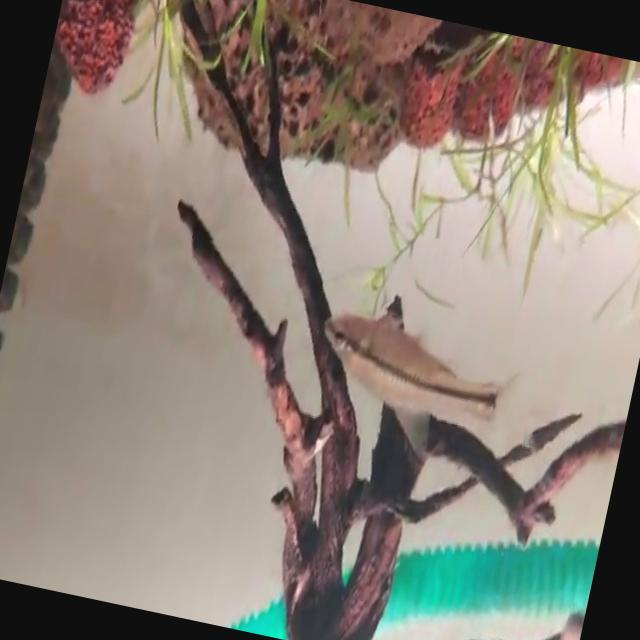Cakil Baligi: (303, 282, 556, 480)
